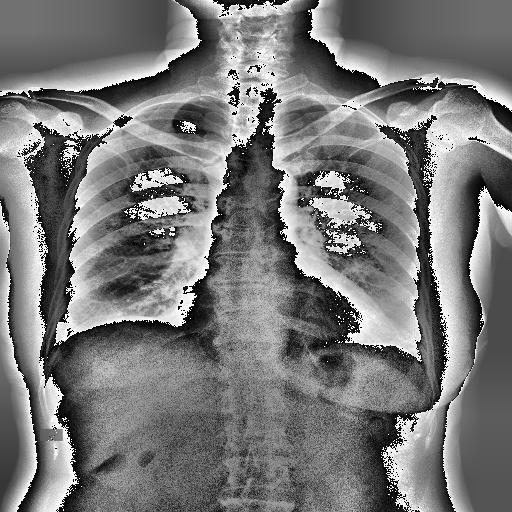0- Aortic enlargement: (244, 164, 298, 212)
2- Calcification: (274, 170, 292, 198)
3- Cardiomegaly: (172, 282, 396, 346), (180, 278, 392, 344), (172, 293, 390, 346)
7- Lung Opacity: (58, 316, 82, 336)
9- Other lesion: (58, 316, 82, 336)
